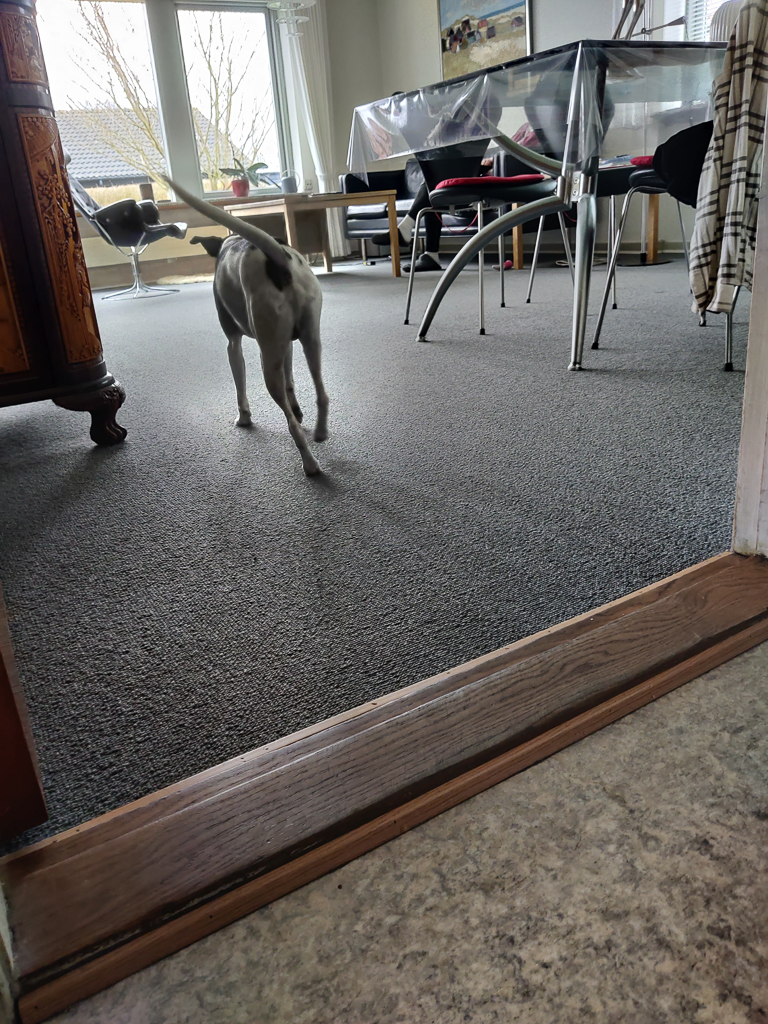Dog: (129, 155, 368, 491)
Humanoid: (363, 106, 572, 278)
